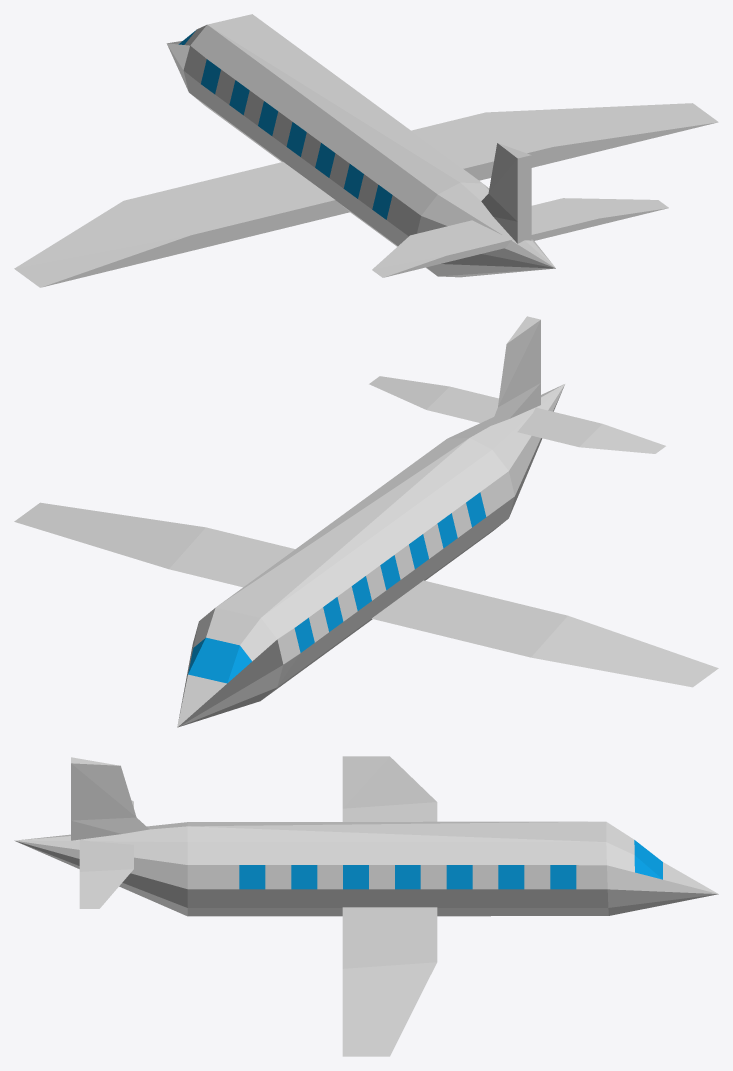
Rendered from cessna.glb.
The picture shows the model from 3 angles, top to bottom: view 1: azimuth 30°, elevation 25°; view 2: azimuth 150°, elevation 25°; view 3: azimuth 270°, elevation 25°; orthographic projection. The views are drawn at different scales.
Parts seen in each view (by area): view 1: group1646739104, group923116386, group582566495, group1104515071, group248001973, group512567540; view 2: group923116386, group1646739104, group512567540, group582566495, group248001973, group1104515071; view 3: group923116386, group1646739104, group1104515071, group512567540, group248001973, group582566495.
Part boxes in pixels (bbox=[...]): group1646739104: bbox=[14, 103, 718, 287]; group923116386: bbox=[183, 14, 482, 274]; group582566495: bbox=[372, 198, 668, 277]; group1104515071: bbox=[417, 182, 555, 277]; group248001973: bbox=[481, 143, 531, 243]; group512567540: bbox=[166, 25, 206, 91]; group923116386: bbox=[216, 438, 514, 699]; group1646739104: bbox=[14, 502, 718, 687]; group512567540: bbox=[177, 607, 283, 727]; group582566495: bbox=[369, 376, 665, 453]; group248001973: bbox=[490, 316, 540, 425]; group1104515071: bbox=[448, 384, 564, 516]; group923116386: bbox=[187, 821, 608, 916]; group1646739104: bbox=[342, 756, 437, 1056]; group1104515071: bbox=[14, 822, 187, 916]; group512567540: bbox=[606, 822, 718, 915]; group248001973: bbox=[71, 757, 149, 840]; group582566495: bbox=[79, 800, 133, 908].
Size of the model in its own units: 2.19 by 0.5171 by 2.18.
